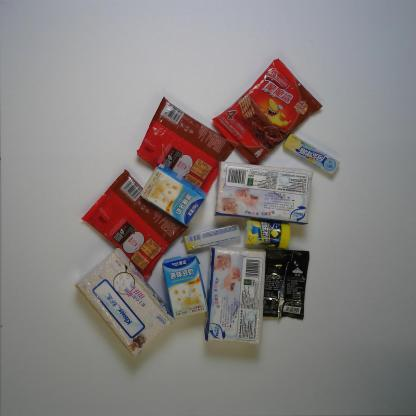Candy: (280, 131, 341, 179), (182, 222, 243, 256)
Dessert: (211, 56, 325, 168), (80, 167, 190, 278), (134, 95, 238, 200)
Gum: (242, 214, 292, 253)
Instant Drink: (257, 242, 312, 323)
Milk: (138, 160, 208, 226), (162, 254, 211, 322)
Tissue: (74, 247, 174, 358), (214, 158, 314, 228), (202, 242, 268, 348)
